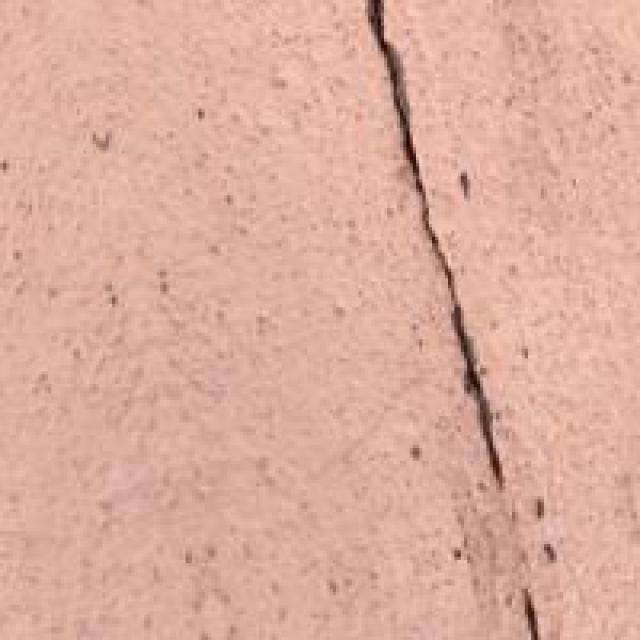crack: (358, 0, 544, 496)
